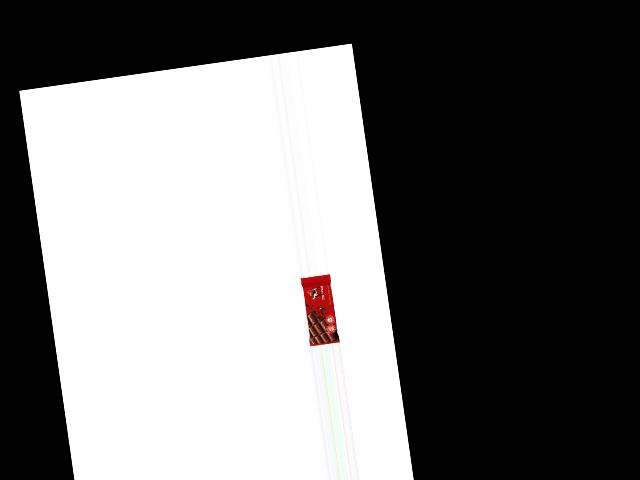chocolate: (300, 272, 340, 346)
